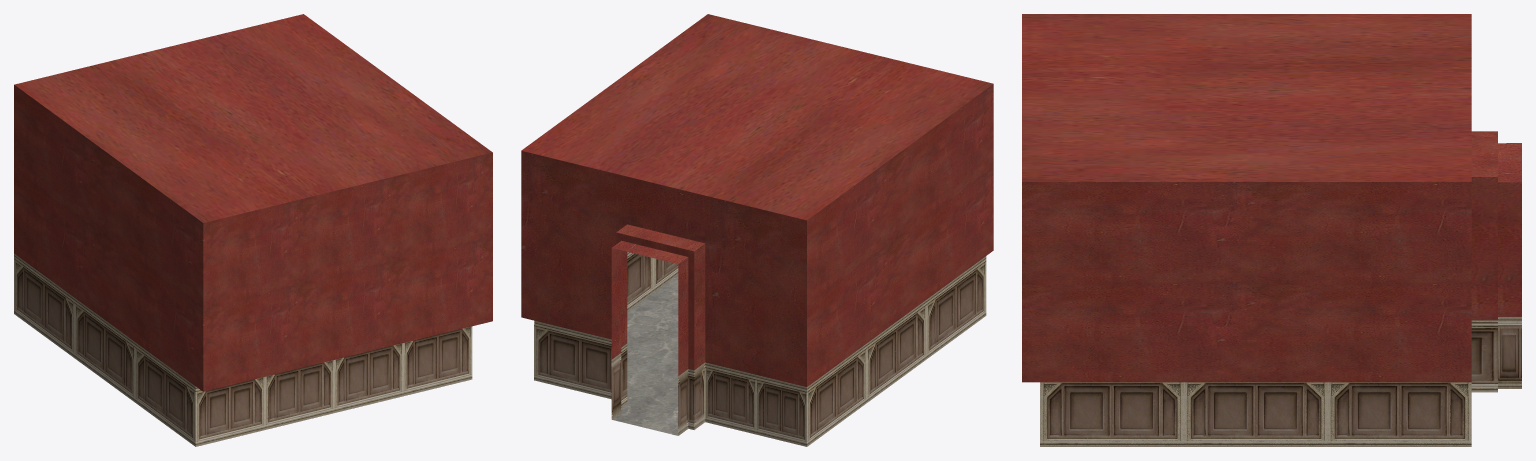
Rendered from thm_nboo_block_bldg_32x16_s02_r2_foyer2_r2_mesh.fbx.
3 views of the same model, side by side, from view 1: azimuth 30°, elevation 25°; view 2: azimuth 150°, elevation 25°; view 3: azimuth 270°, elevation 25° (orthographic). The views are drawn at different scales.
Parts seen in each view (by area): view 1: mesh_node; view 2: mesh_node; view 3: mesh_node.
Part boxes in pixels (x1,y1,x2,y2): mesh_node: (14,14,492,446); mesh_node: (521,14,993,446); mesh_node: (1022,14,1521,446).
Bounding box in the file's own units: 5.5 × 4.16 × 6.92.
